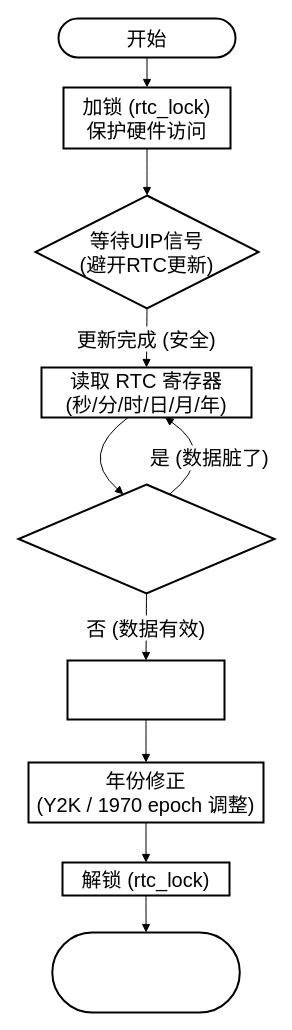
This 292x1030 diagram has some shape labels left out. The centre of each missing label's shape, as x and y in pixels:
"mktime 合成时间戳 返回结果" goes at point 145,972.
"一致性校验 (读取期间秒数 是否跳变?)" goes at point 146,538.
"格式处理 BCD 转二进制" goes at point 145,689.
